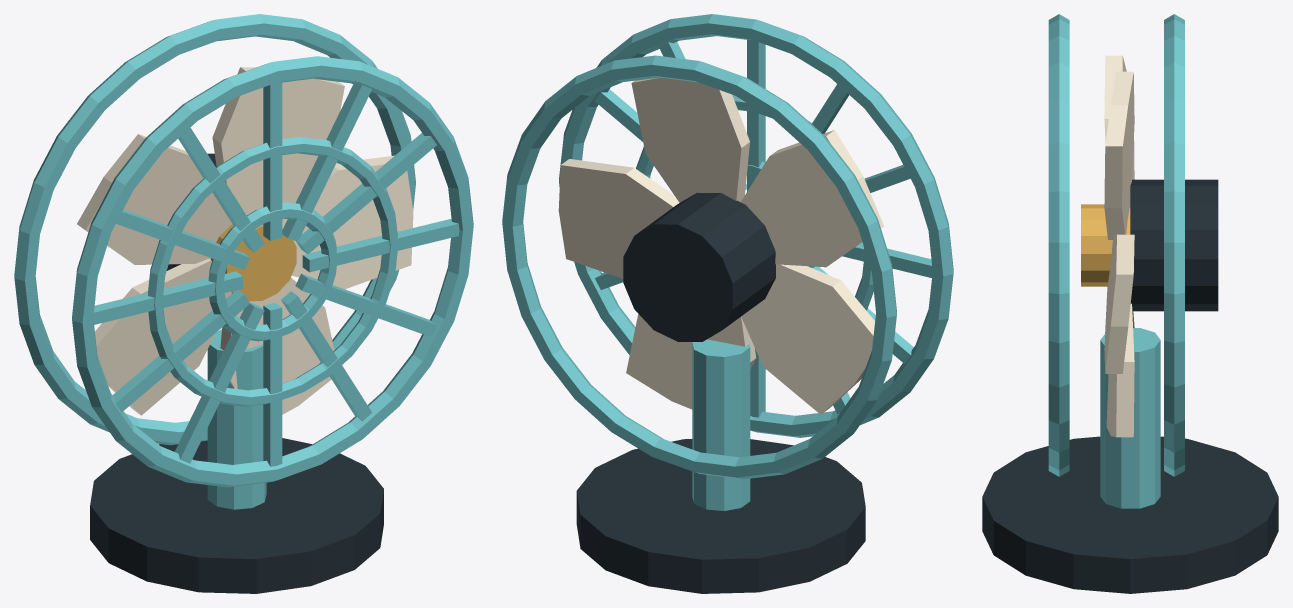
Rendered from propeller_v1.glb.
The picture shows the model from 3 angles, left to right: view 1: azimuth 30°, elevation 25°; view 2: azimuth 150°, elevation 25°; view 3: azimuth 270°, elevation 25°; orthographic projection.
Visible parts, largest first — view 1: Propeller / paper blades, Propeller / dark foot, Propeller / cage wires, Propeller / cage front ring, Propeller / cage back ring, Propeller / cage hoop outer, Propeller / teal neck, Propeller / cage hoop inner, Propeller / brass hub; view 2: Propeller / paper blades, Propeller / dark foot, Propeller / cage back ring, Propeller / cage front ring, Propeller / dark motor, Propeller / teal neck, Propeller / cage wires, Propeller / cage hoop outer; view 3: Propeller / dark foot, Propeller / paper blades, Propeller / cage front ring, Propeller / cage back ring, Propeller / dark motor, Propeller / teal neck, Propeller / brass hub.
Part boxes in pixels (x1,y1,x2,y2): Propeller / paper blades: (77, 67, 413, 415); Propeller / dark foot: (90, 438, 383, 593); Propeller / cage wires: (93, 82, 459, 466); Propeller / cage front ring: (72, 56, 473, 487); Propeller / cage back ring: (14, 14, 415, 445); Propeller / cage hoop outer: (148, 137, 398, 406); Propeller / teal neck: (207, 329, 266, 509); Propeller / cage hoop inner: (208, 202, 337, 341); Propeller / brass hub: (211, 224, 296, 301); Propeller / paper blades: (558, 77, 884, 414); Propeller / dark foot: (576, 439, 865, 593); Propeller / cage back ring: (502, 55, 896, 479); Propeller / cage front ring: (559, 14, 953, 437); Propeller / dark motor: (623, 192, 775, 341); Propeller / teal neck: (692, 339, 750, 510); Propeller / cage wires: (595, 39, 932, 417); Propeller / cage hoop outer: (636, 94, 873, 354); Propeller / dark foot: (982, 436, 1278, 593); Propeller / paper blades: (1104, 55, 1134, 437); Propeller / cage front ring: (1048, 14, 1069, 476); Propeller / cage back ring: (1164, 14, 1184, 476); Propeller / dark motor: (1130, 179, 1218, 311); Propeller / teal neck: (1100, 328, 1160, 508); Propeller / brass hub: (1081, 204, 1130, 286).
Size of the model in its own units: 0.844 by 0.997 by 0.54.
